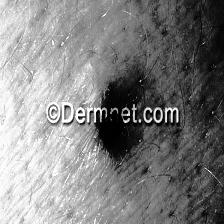Benign Marking or Mole: (99, 114, 127, 146)
